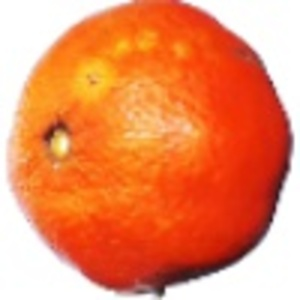tangerina: (4, 1, 300, 300)
